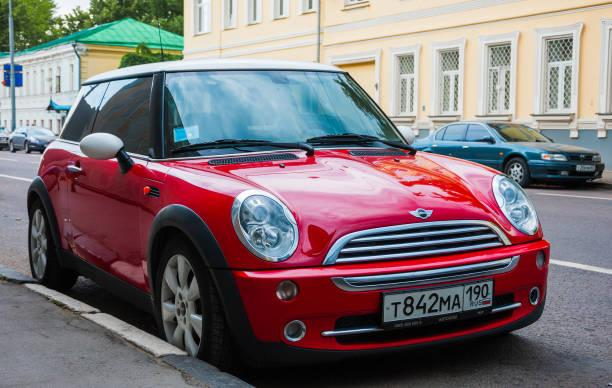mini: (398, 199, 443, 228)
